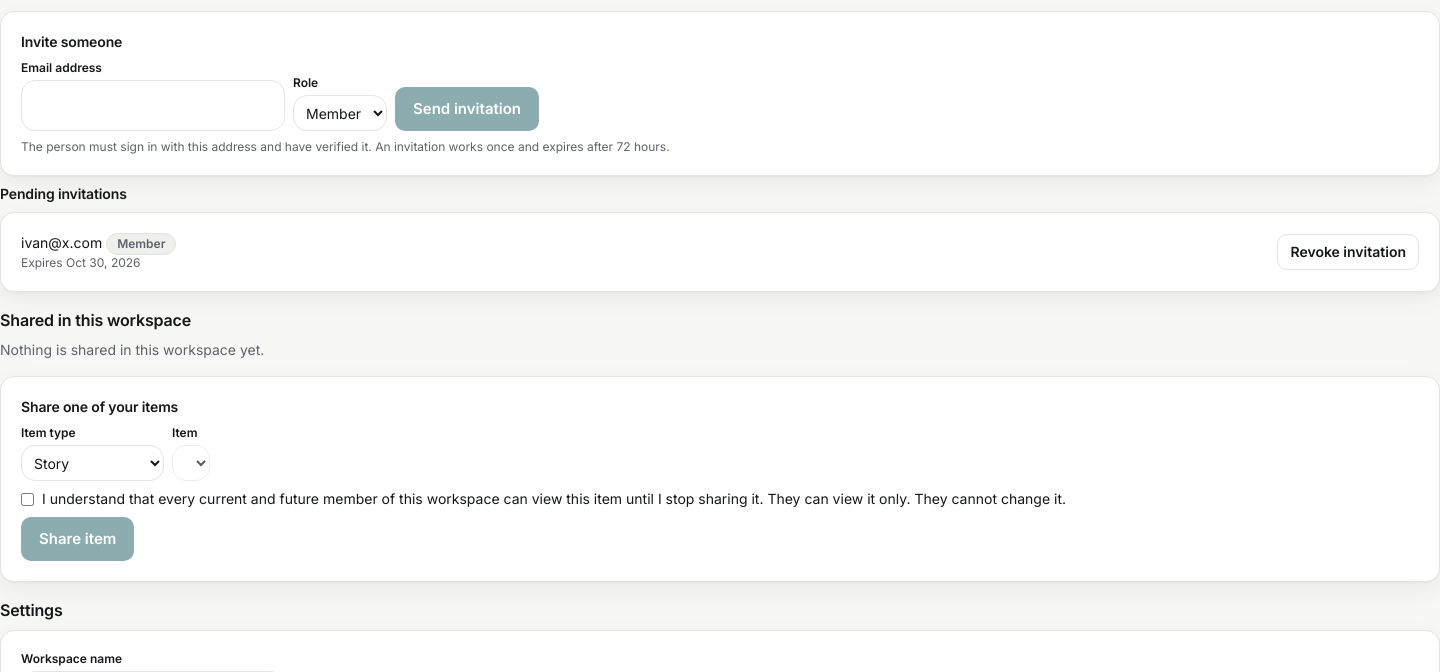
Test case: Sharing into a workspace › offers only COMPLETED interviews as reports, and says honestly when there is nothing to share
(page scrolled)
Expected: the button "Share item" is shown, [21,517,134,561]
Select "Interview report" in the dropdown labelled "Item type" at (92, 463), box [21,445,164,481]
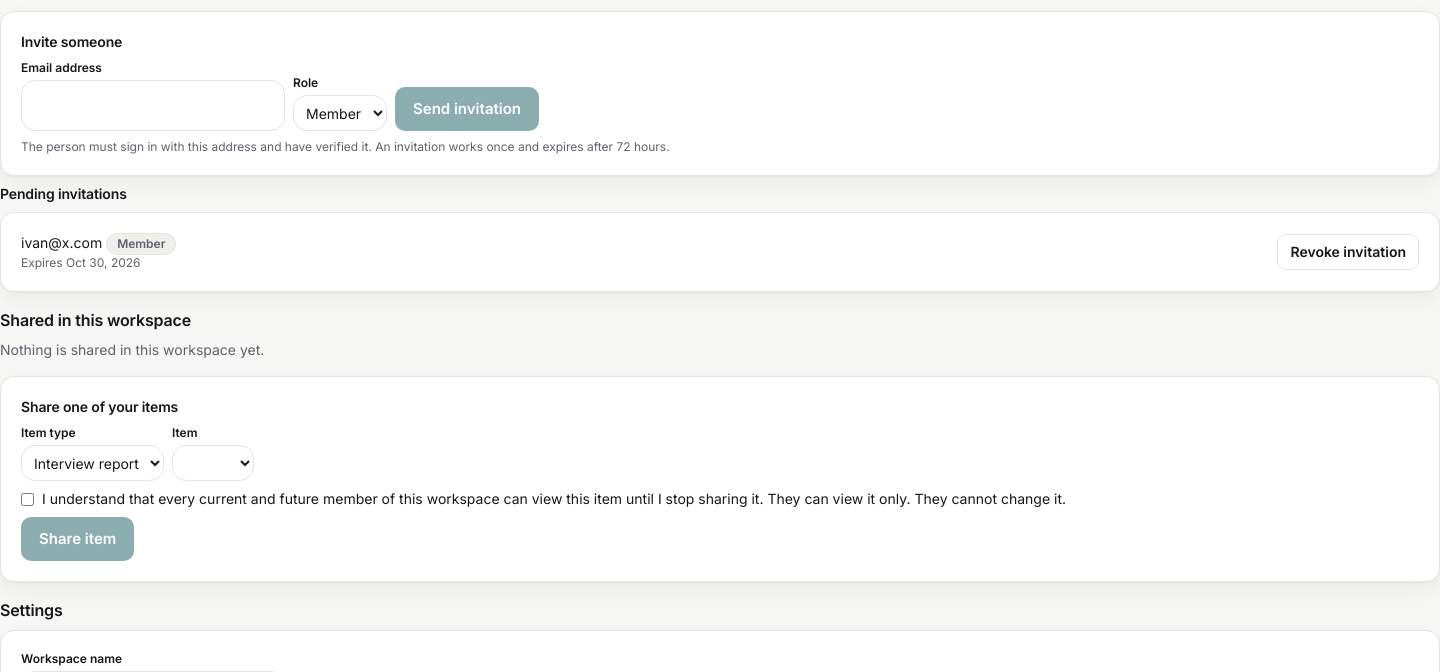
Select "Story" in the dropdown labelled "Item type" at (92, 463), box [21,445,164,481]
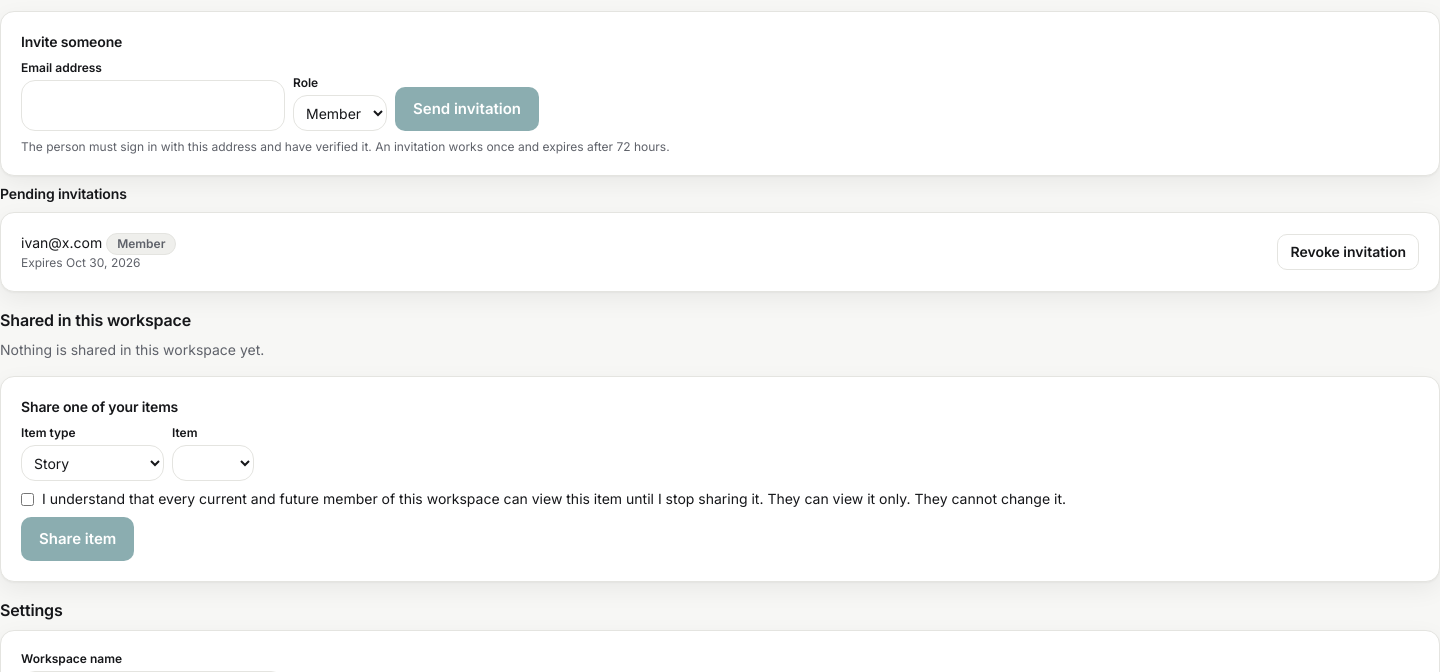
Select "Interview report" in the dropdown labelled "Item type" at (92, 463), box [21,445,164,481]
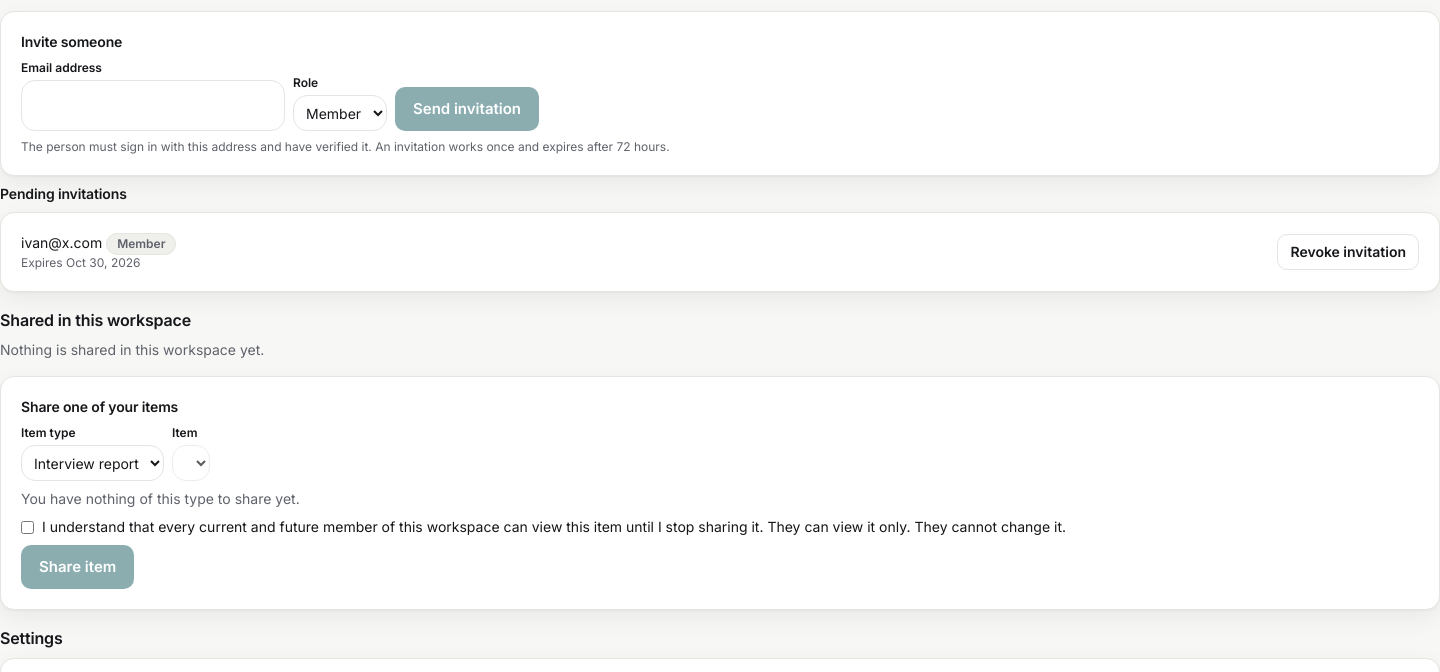
Result: the text "You have nothing of this type to share yet." is shown at [21,490,300,507]
